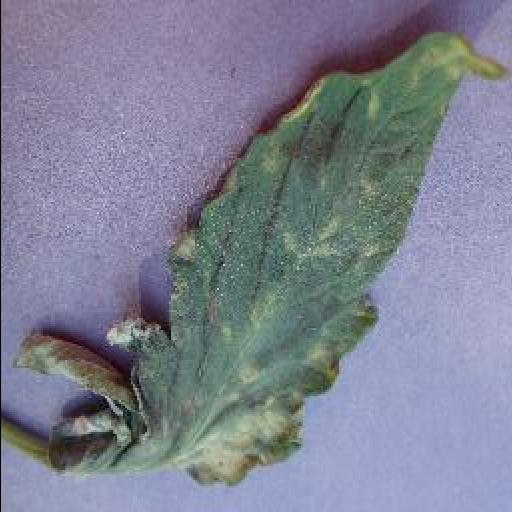disease_tomato: (12, 28, 510, 490)
